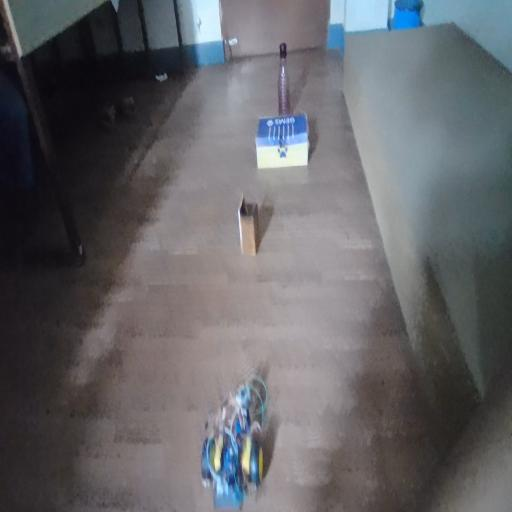Bottle: (272, 24, 295, 126)
car: (202, 366, 301, 502)
